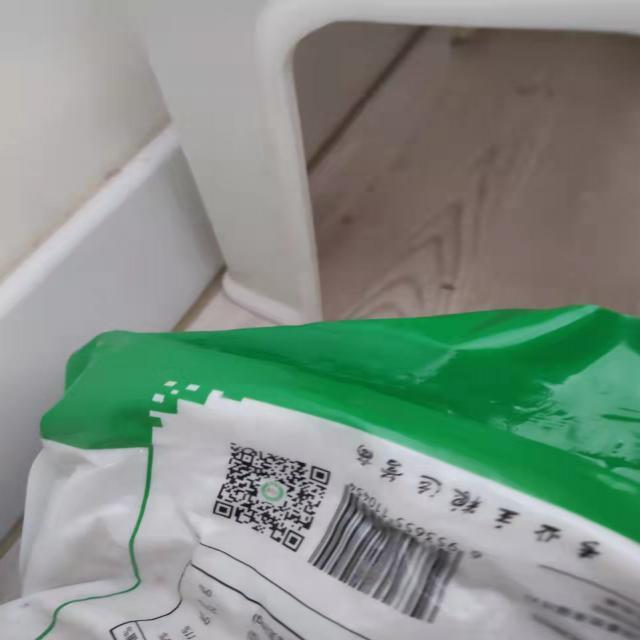qr_code: (212, 441, 332, 554)
